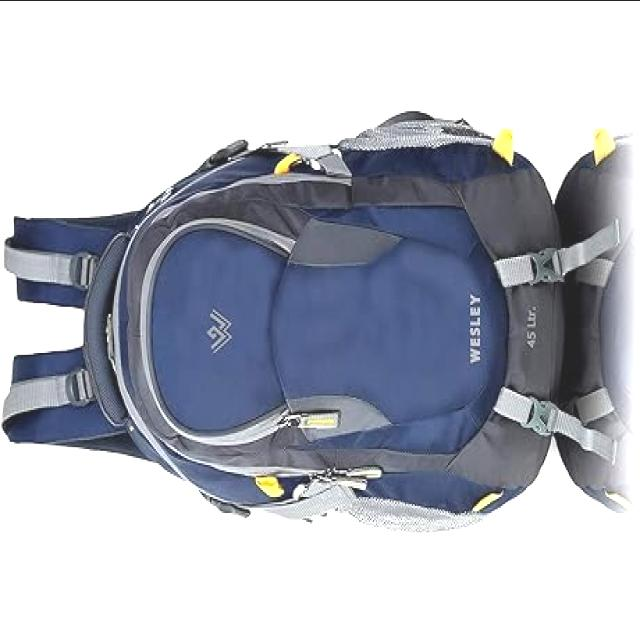backpack: (1, 94, 576, 556)
